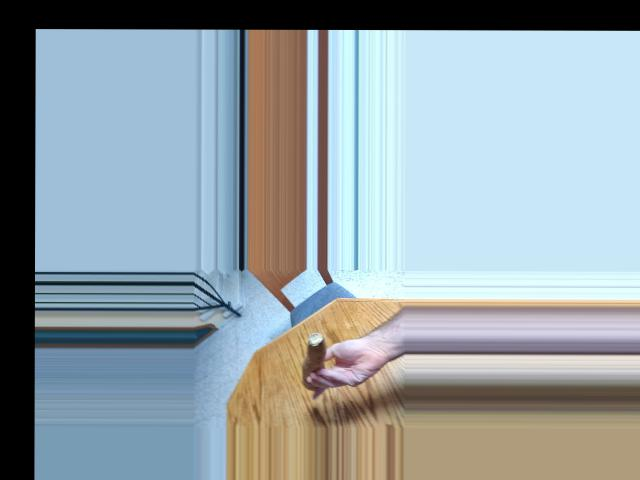sweet_potato: (301, 342, 328, 387)
